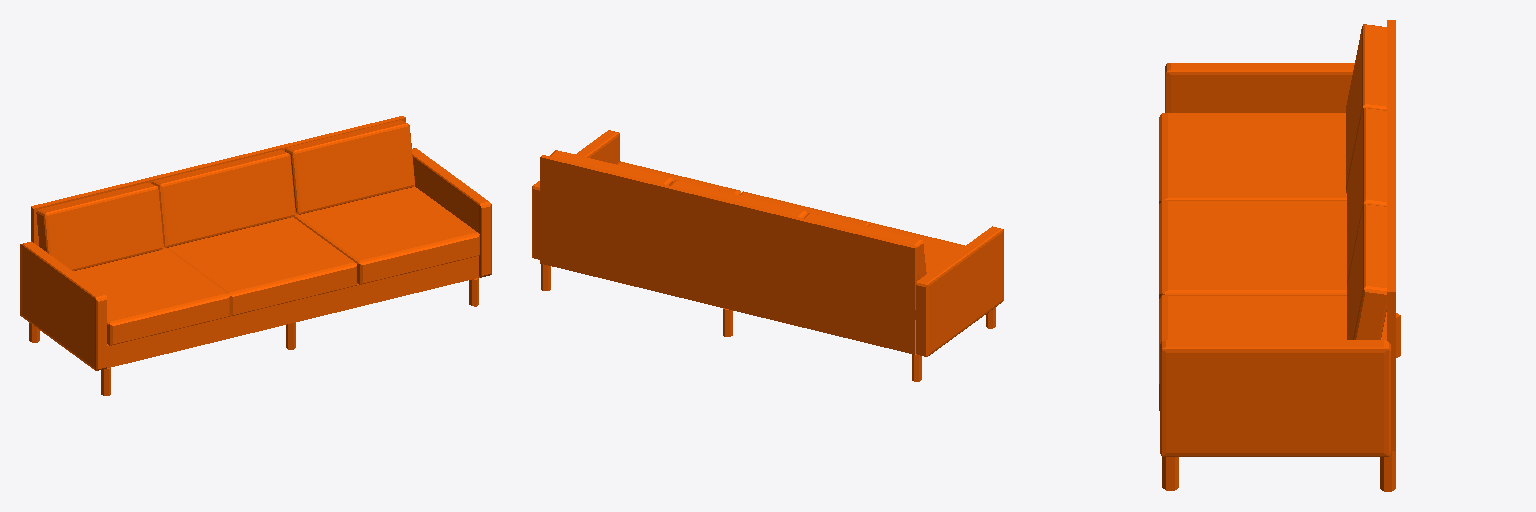
robot.urdf — Couch_823219c03b02a423c1a85f2b9754d96f:
<?xml version="1.0" ?>
<robot name="Couch_823219c03b02a423c1a85f2b9754d96f">
   <material name="obj_color">
      <color rgba="1.0 0.423529411765 0.0392156862745 1.0"/>
   </material>
   <link name="top">
      <inertial>
         <origin rpy="8.757162486055169e-05 0.0004518296789427402 0.0004711931660774001" xyz="0.0005082376294162369 -0.001145907878050419 -0.003784333659116532"/>
         <mass value="0.2636145241568867"/>
         <inertia ixx="8.757509204100657e-05" ixy="5.584947248138418e-07" ixz="-1.00822060453564e-06" iyy="0.0004541368956111126" iyz="-6.272651746026264e-06" izz="0.0004688824822285729"/>
      </inertial>
      <visual>
         <origin rpy="0 0 0" xyz="0 0 0"/>
         <geometry>
            <mesh filename="top_watertight_tiny.stl" scale="1 1 1"/>
         </geometry>
         <material name="obj_color"/>
      </visual>
      <collision>
         <origin rpy="0 0 0" xyz="0 0 0"/>
         <geometry>
            <mesh filename="top_watertight_tiny.obj" scale="1 1 1"/>
         </geometry>
      </collision>
   </link>
   <link name="bottom">
      <inertial>
         <origin rpy="1.633333333199431e-08 1.633333333199431e-08 1.633333333362855e-08" xyz="0.3464080000000008 0.3464080000000008 0.3464080000000008"/>
         <mass value="0.0009800000000000017"/>
         <inertia ixx="1.633333333253906e-08" ixy="5.447480642029219e-19" ixz="5.447480642029219e-19" iyy="1.633333333253906e-08" iyz="5.447480642029219e-19" izz="1.633333333253906e-08"/>
      </inertial>
      <visual>
         <origin rpy="0 0 0" xyz="0 0 0"/>
         <geometry>
            <mesh filename="bottom_watertight_tiny.stl" scale="1 1 1"/>
         </geometry>
         <material name="obj_color"/>
      </visual>
   </link>
   <link name="world"/>
   <joint name="world_to_base" type="fixed">
      <origin xyz="0 0 0"/>
      <axis xyz="0 0 0"/>
      <parent link="world"/>
      <child link="bottom"/>
   </joint>
   <joint name="rotation" type="revolute">
      <origin xyz="0 0 0"/>
      <axis xyz="0 0 -1"/>
      <parent link="bottom"/>
      <child link="top"/>
      <dynamics damping="1.0" friction="1.0"/>
      <limit effort="0.1" velocity="0.1" lower="0" upper="0.001"/>
   </joint>
</robot>

--- Render facts (derived) ---
3 views of the same robot in one strip: view 1: azimuth 30°, elevation 25°; view 2: azimuth 150°, elevation 25°; view 3: azimuth 270°, elevation 25° (orthographic).
Model Couch_823219c03b02a423c1a85f2b9754d96f with 3 links and 2 joints (1 revolute, 1 fixed), rooted at world, posed every joint at zero.
Links seen in each view (by area): view 1: top; view 2: top; view 3: top.
Link boxes in pixels (<box>): top: <box>20,116,491,395</box>; top: <box>532,130,1003,381</box>; top: <box>1159,20,1400,491</box>.
Bounding box of the posed robot: 0.1395 × 0.0494 × 0.0453 m (x, y, z).
1 mesh visuals loaded from 2 distinct referenced files (1 binary STL); not drawn: 1 (reference not matched to a file when rendering).
